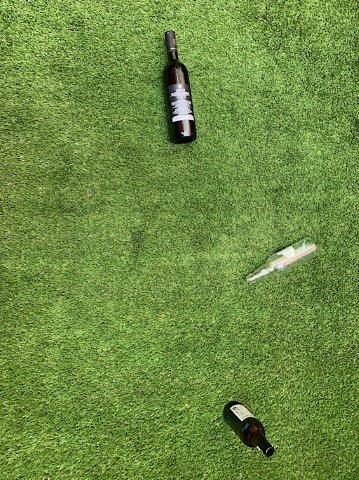botolkaca: (163, 30, 194, 144), (244, 238, 320, 279), (223, 401, 277, 458)
